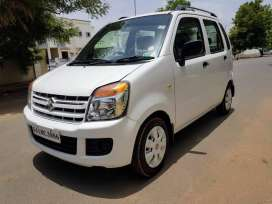license_plate: (28, 122, 62, 142)
